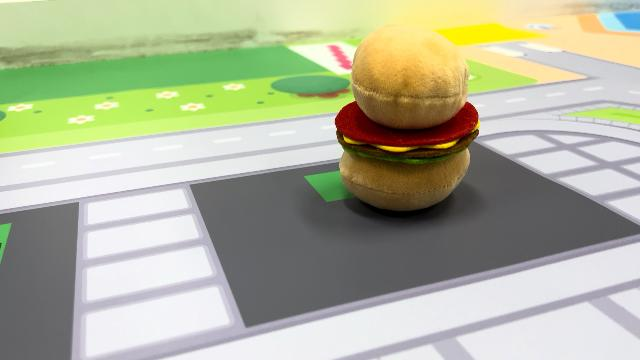burger: (331, 22, 483, 214)
